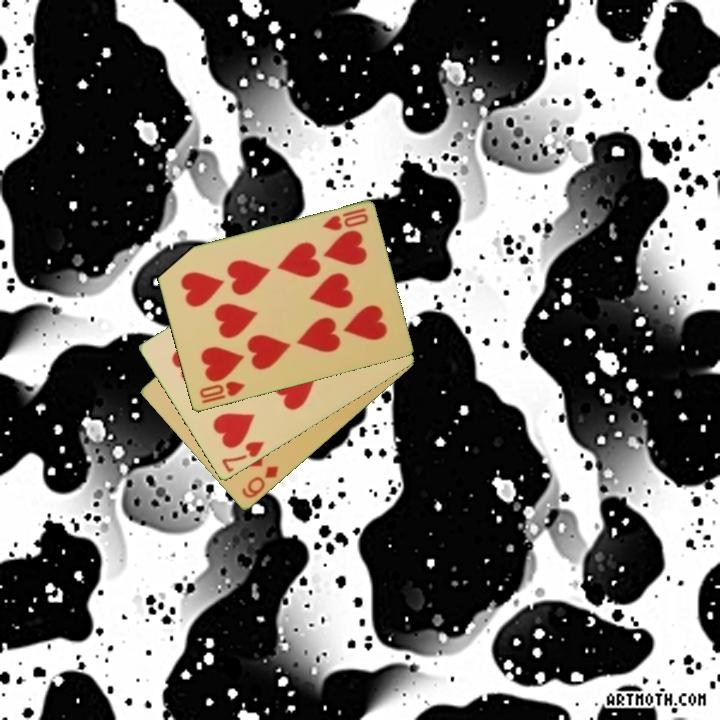10h: (196, 378, 248, 407), (319, 205, 371, 234)
6d: (238, 463, 282, 502)
7h: (218, 438, 267, 476)
